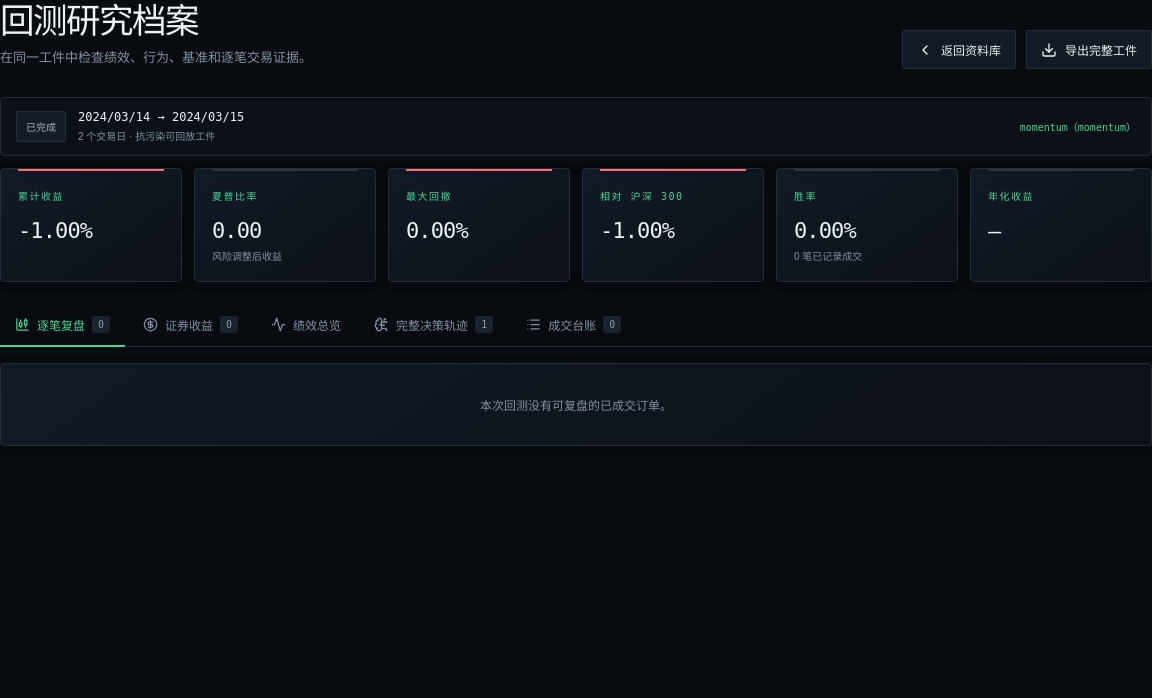
it: Results › loads full decision evidence only after the decision tab is opened
This screenshot has width=1152, height=698.
Click the button "完整决策轨迹 1": (434, 326) x1=359 y1=304 x2=508 y2=347
(page scrolled)
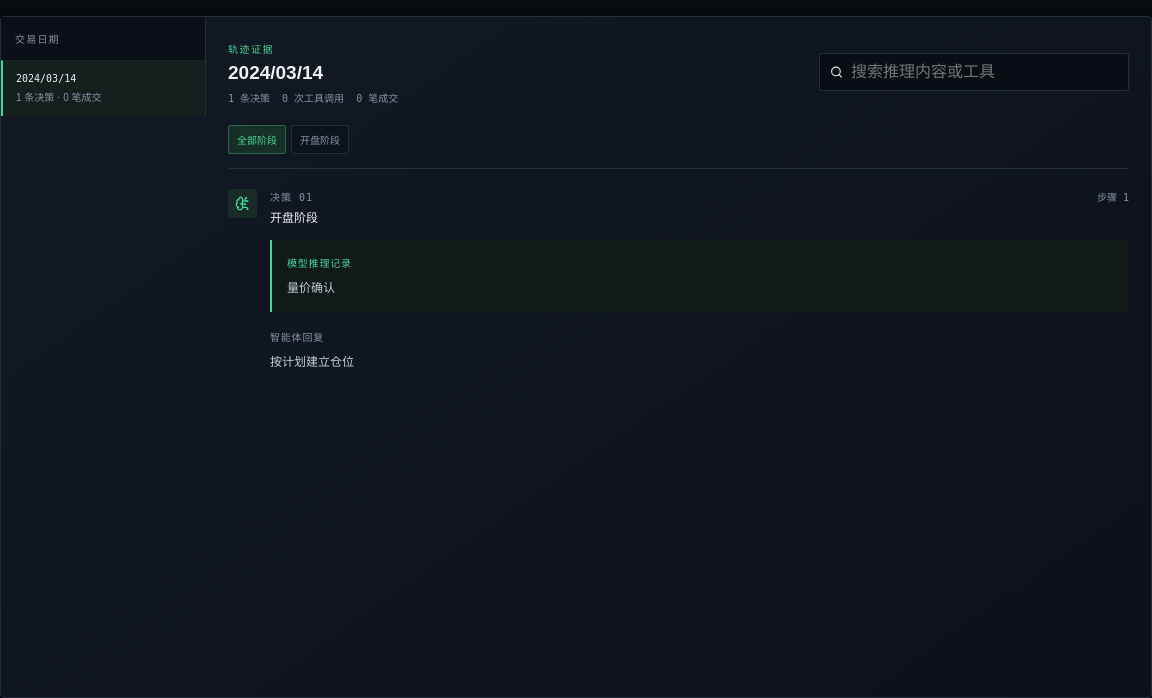
Now the text "按计划建立仓位" is shown, box x1=270 y1=355 x2=354 y2=369
